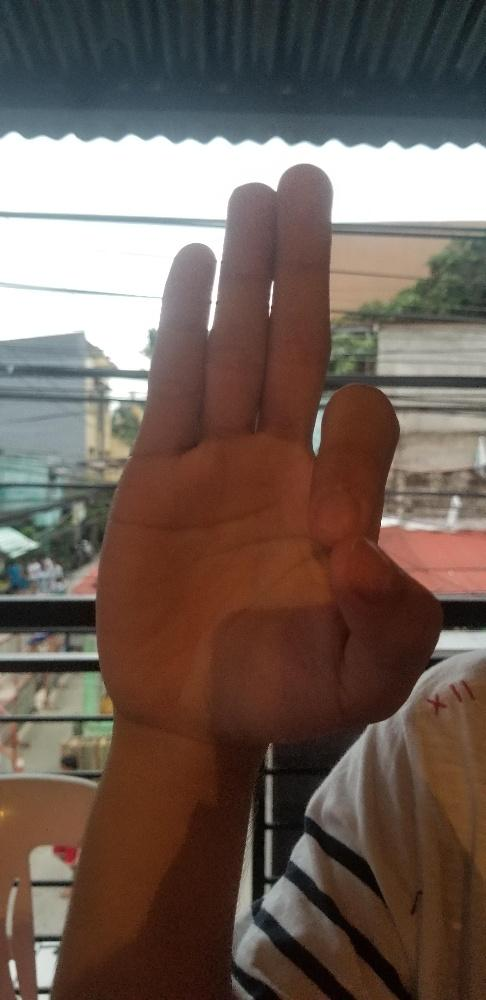f: (92, 163, 442, 746)
